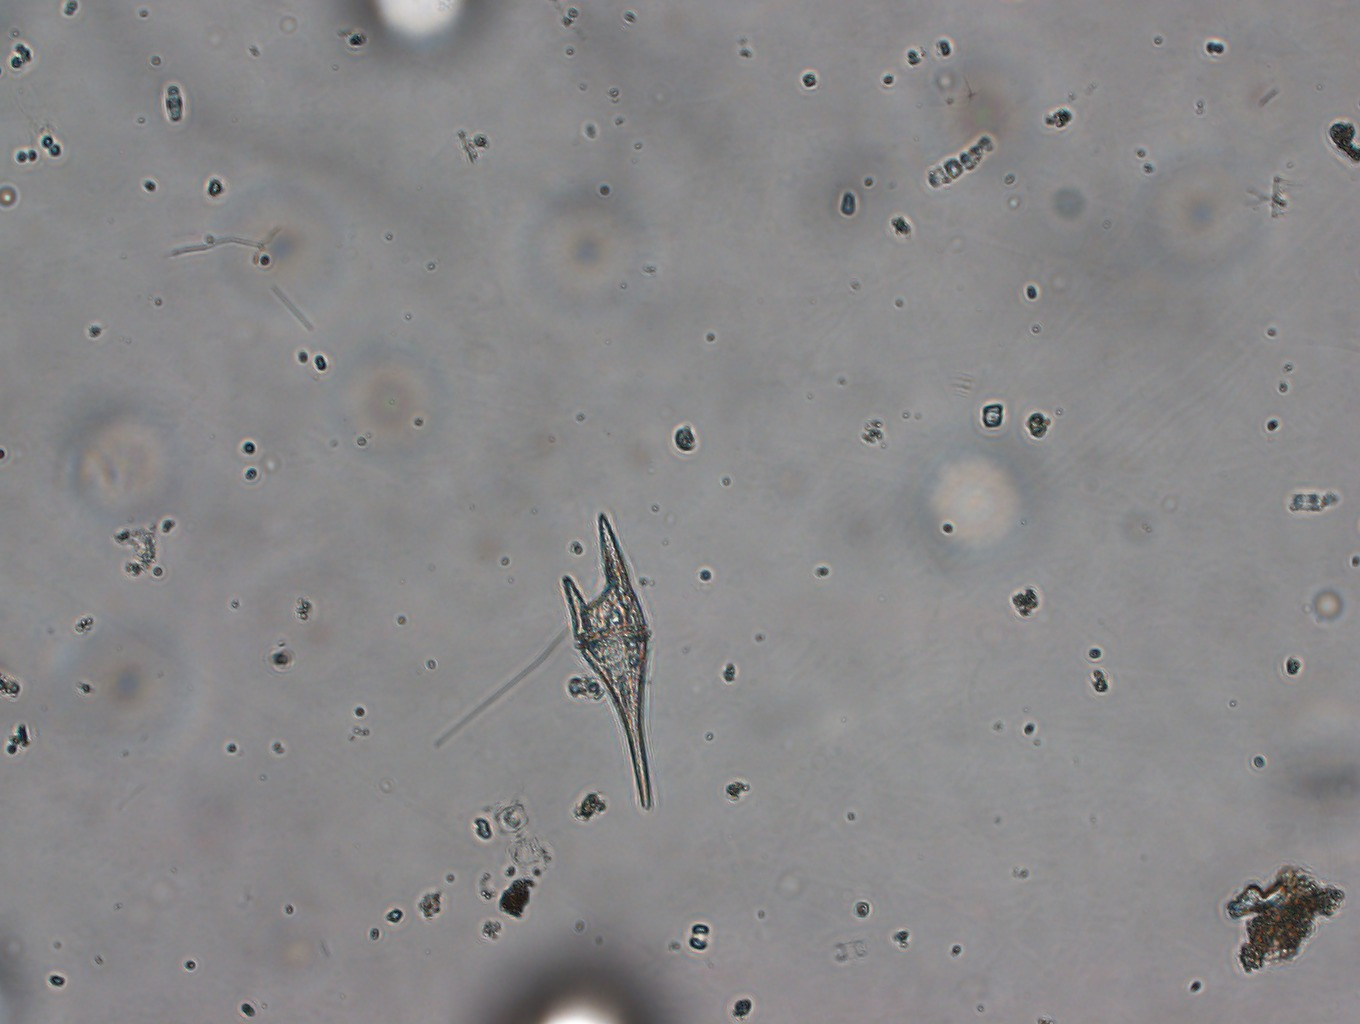ceratium furca: (557, 501, 677, 828)
